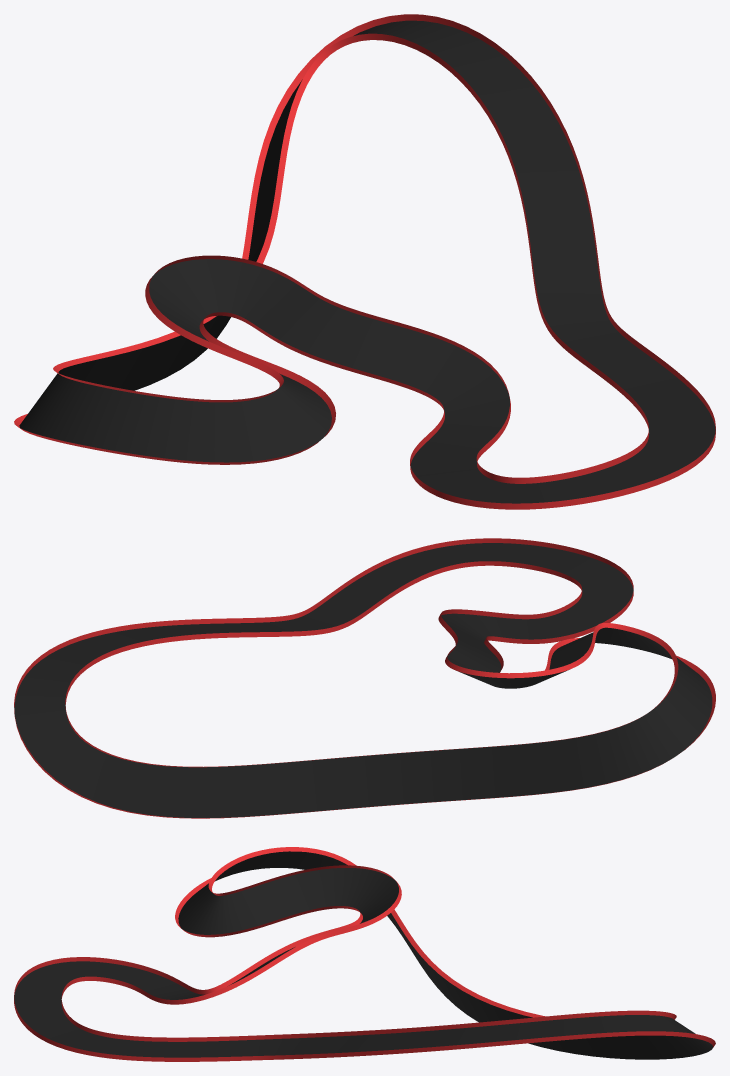
Rendered from wavyTrack.fbx.
3 renders of one model, top to bottom at view 1: azimuth 30°, elevation 25°; view 2: azimuth 150°, elevation 25°; view 3: azimuth 270°, elevation 25°, orthographic. The views are drawn at different scales.
Parts seen in each view (by area): view 1: track; view 2: track; view 3: track.
Part boxes in pixels (<box>): track: <box>14,14,715,509</box>; track: <box>14,538,715,818</box>; track: <box>14,847,715,1061</box>.
Size of the model in its own units: 34.21 by 44.21 by 8.14.
